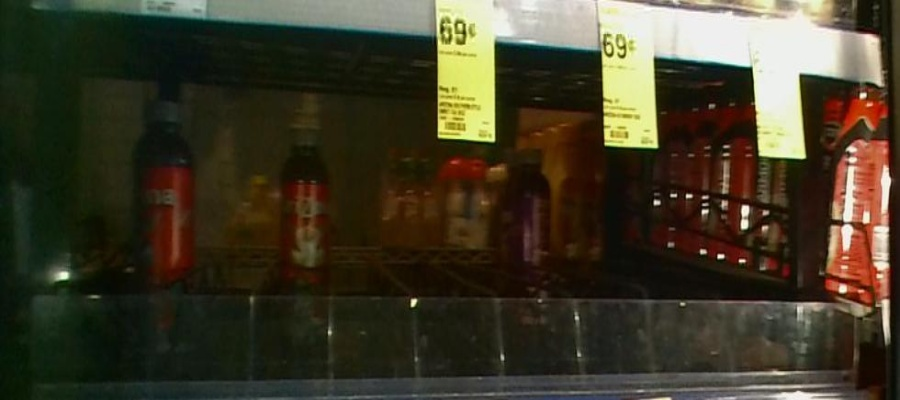bottle: (128, 93, 198, 291), (273, 105, 338, 289), (513, 140, 560, 274)
